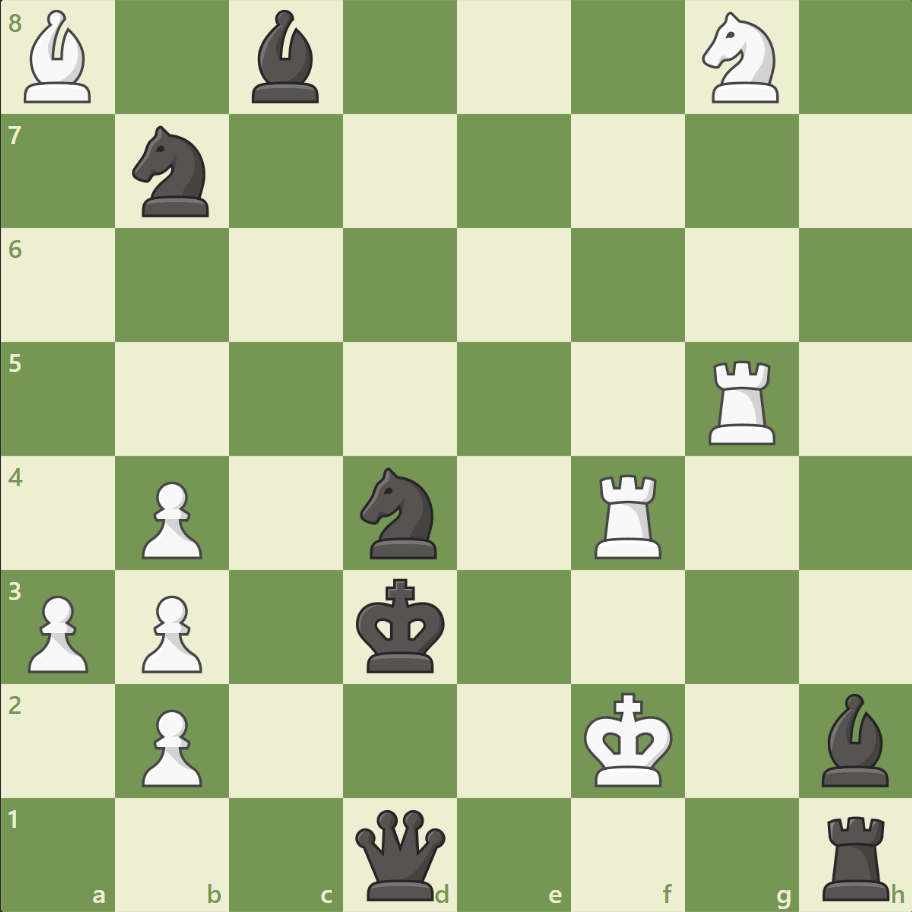B: (17, 6, 101, 109)
K: (579, 685, 679, 793)
N: (692, 7, 789, 110)
P: (133, 473, 208, 564), (20, 586, 95, 677), (133, 586, 208, 677), (133, 700, 208, 791)
R: (700, 352, 783, 449), (587, 466, 670, 563)
b: (244, 6, 328, 109), (812, 687, 896, 790)
k: (351, 571, 451, 679)
n: (351, 461, 449, 564), (124, 121, 222, 223)
q: (351, 804, 450, 903)
r: (814, 806, 897, 904)
